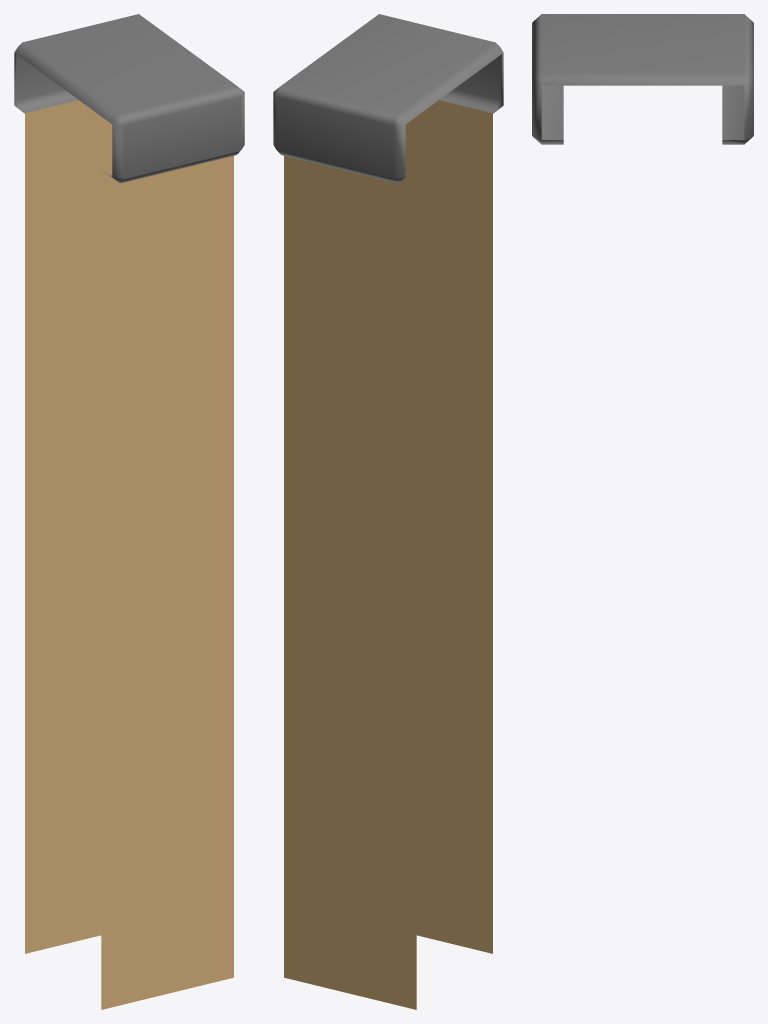
The model's file is SM_Wall_1x6_LOD0.fbx.
3 renders of one model, left to right at view 1: azimuth 30°, elevation 25°; view 2: azimuth 150°, elevation 25°; view 3: azimuth 270°, elevation 25°, orthographic. The views are drawn at different scales.
Parts seen in each view (by area): view 1: SM_Wall_1x6_LOD0; view 2: SM_Wall_1x6_LOD0; view 3: SM_Wall_1x6_LOD0.
Boxes of the visible parts, left/top/right/bottom form: SM_Wall_1x6_LOD0: left=14, top=14, right=244, bottom=1009; SM_Wall_1x6_LOD0: left=273, top=14, right=503, bottom=1009; SM_Wall_1x6_LOD0: left=532, top=14, right=753, bottom=144.
Size of the model in its own units: 1 by 6.5 by 1.4.
